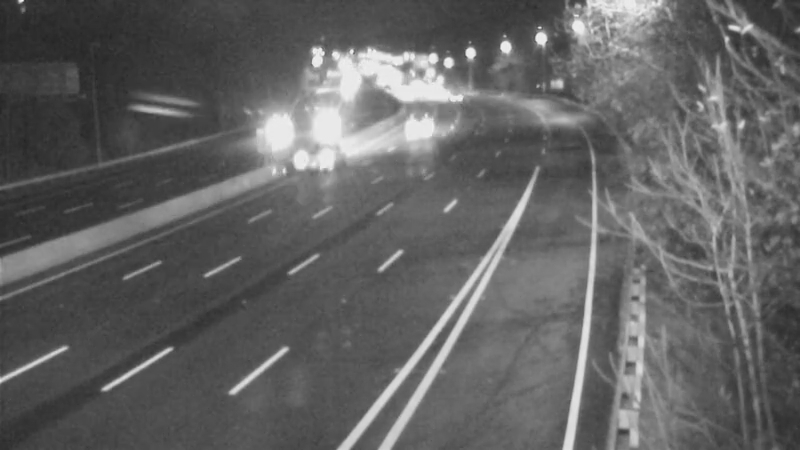vehicle: (291, 117, 371, 197), (428, 72, 478, 122), (401, 74, 451, 124), (403, 99, 453, 149), (246, 104, 296, 154), (302, 100, 352, 150)
